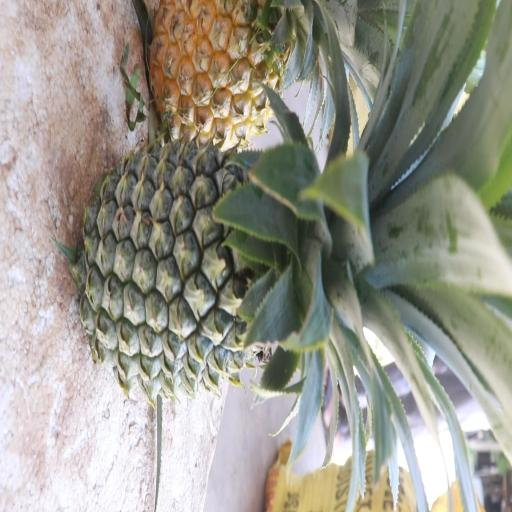Pineapple - v8 v1: (148, 0, 312, 138)
